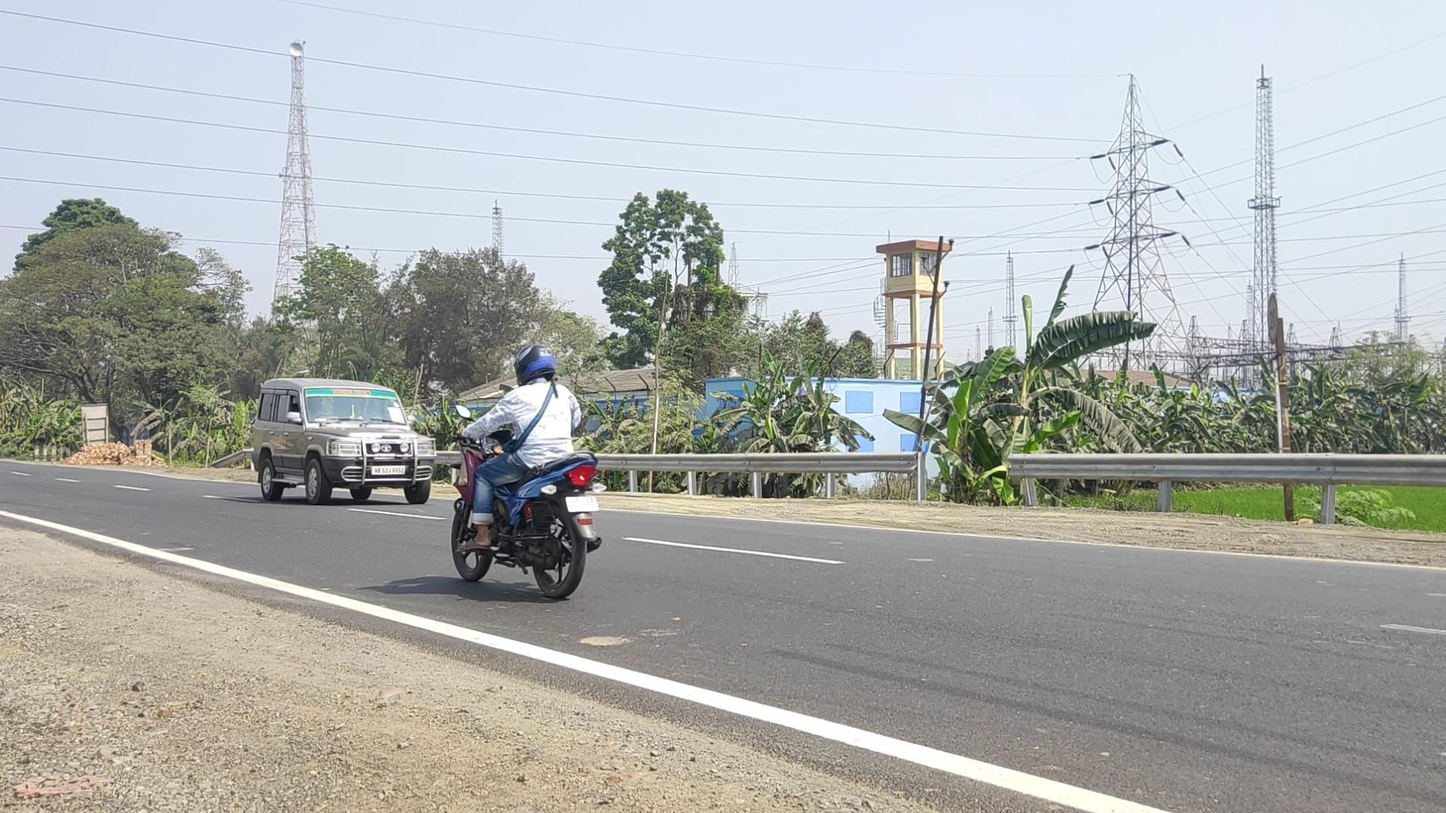bike: (450, 345, 607, 598)
car: (253, 376, 436, 507)
